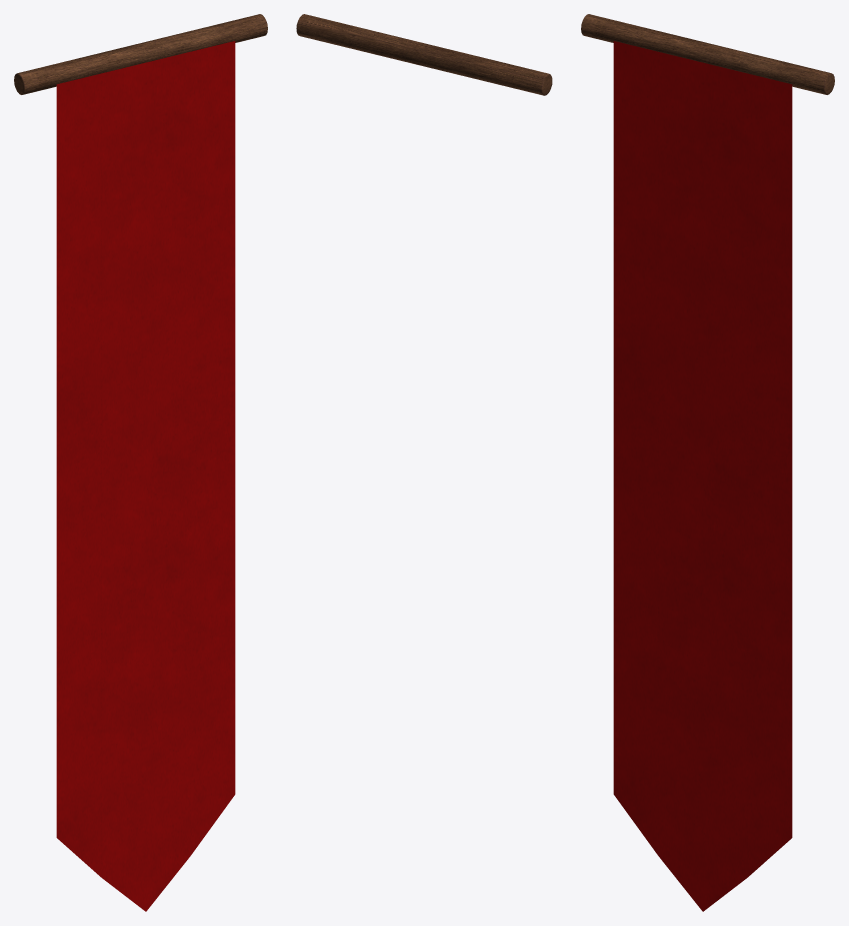
File: longTapestryRed.glb
The picture shows the model from 3 angles, left to right: view 1: azimuth 30°, elevation 25°; view 2: azimuth 150°, elevation 25°; view 3: azimuth 330°, elevation 25°; orthographic projection.
Parts seen in each view (by area): view 1: group6 (×2); view 2: group6; view 3: group6 (×2).
Boxes of the visible parts, x1=… form: group6 (×2): x1=14, y1=14, x2=267, y2=911; group6: x1=296, y1=14, x2=552, y2=95; group6 (×2): x1=581, y1=14, x2=834, y2=911.
Bounding box in the file's own units: 3.96 × 13.4 × 0.3174.
2 materials, 2 textured.
